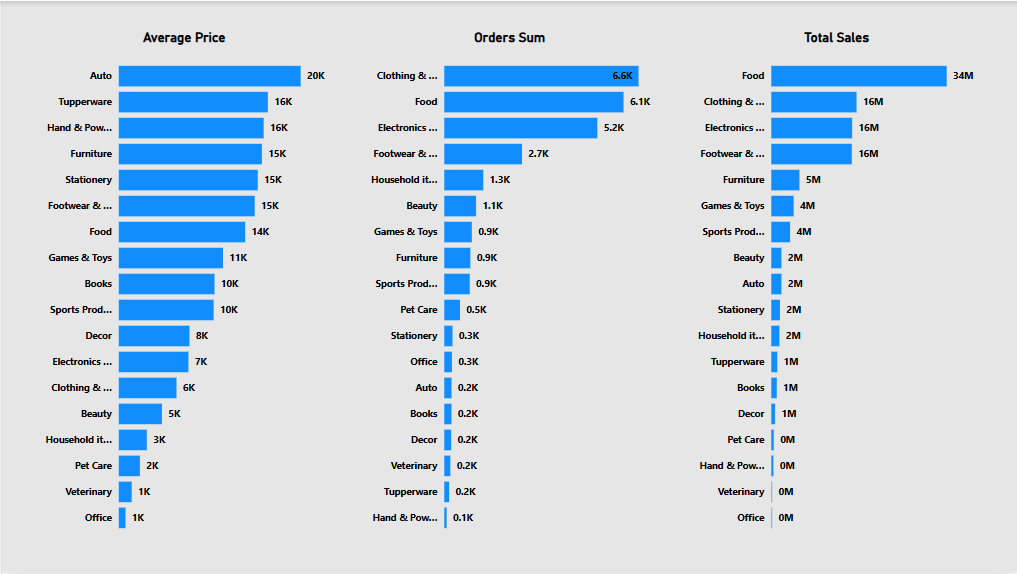

Layout of this report page (visuals, bound fields, positions):
{"tool":"powerbi","page":{"name":"Page 2","canvas":[1280,720],"ordinal":0},"visuals":[{"type":"clusteredBarChart","title":"Total Sales ","fields":{"Category":["Sheet1.Product_Category"],"Y":["Sum(Sheet1.Amount)"]},"box":[859.8,35.9,383.6,646.3],"z":3000},{"type":"clusteredBarChart","title":"Orders Sum ","fields":{"Category":["Sheet1.Product_Category"],"Y":["Sum(Sheet1.Orders)"]},"box":[447.9,35.9,383.6,646.3],"z":4000},{"type":"clusteredBarChart","title":"Average Price ","fields":{"Category":["Sheet1.Product_Category"],"Y":["Avg(Sheet1.Amount)"]},"box":[37.8,35.9,383.6,646.3],"z":5000}]}

Visuals, with their boxes in screenshot pixels (x1, y1, x2, y2), scaled from the page's 1280x720 canvas onto the 1017x574 screenshot:
"Total Sales " clusteredBarChart: 683:29:988:544
"Orders Sum " clusteredBarChart: 356:29:661:544
"Average Price " clusteredBarChart: 30:29:335:544
